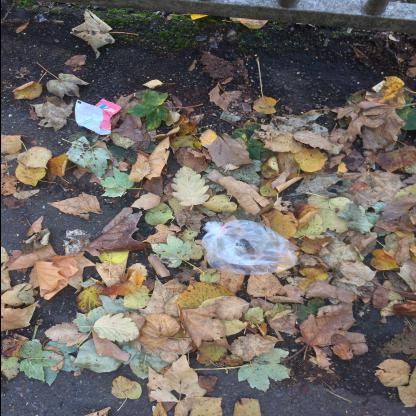plastik: (200, 220, 300, 276), (73, 98, 121, 136)
